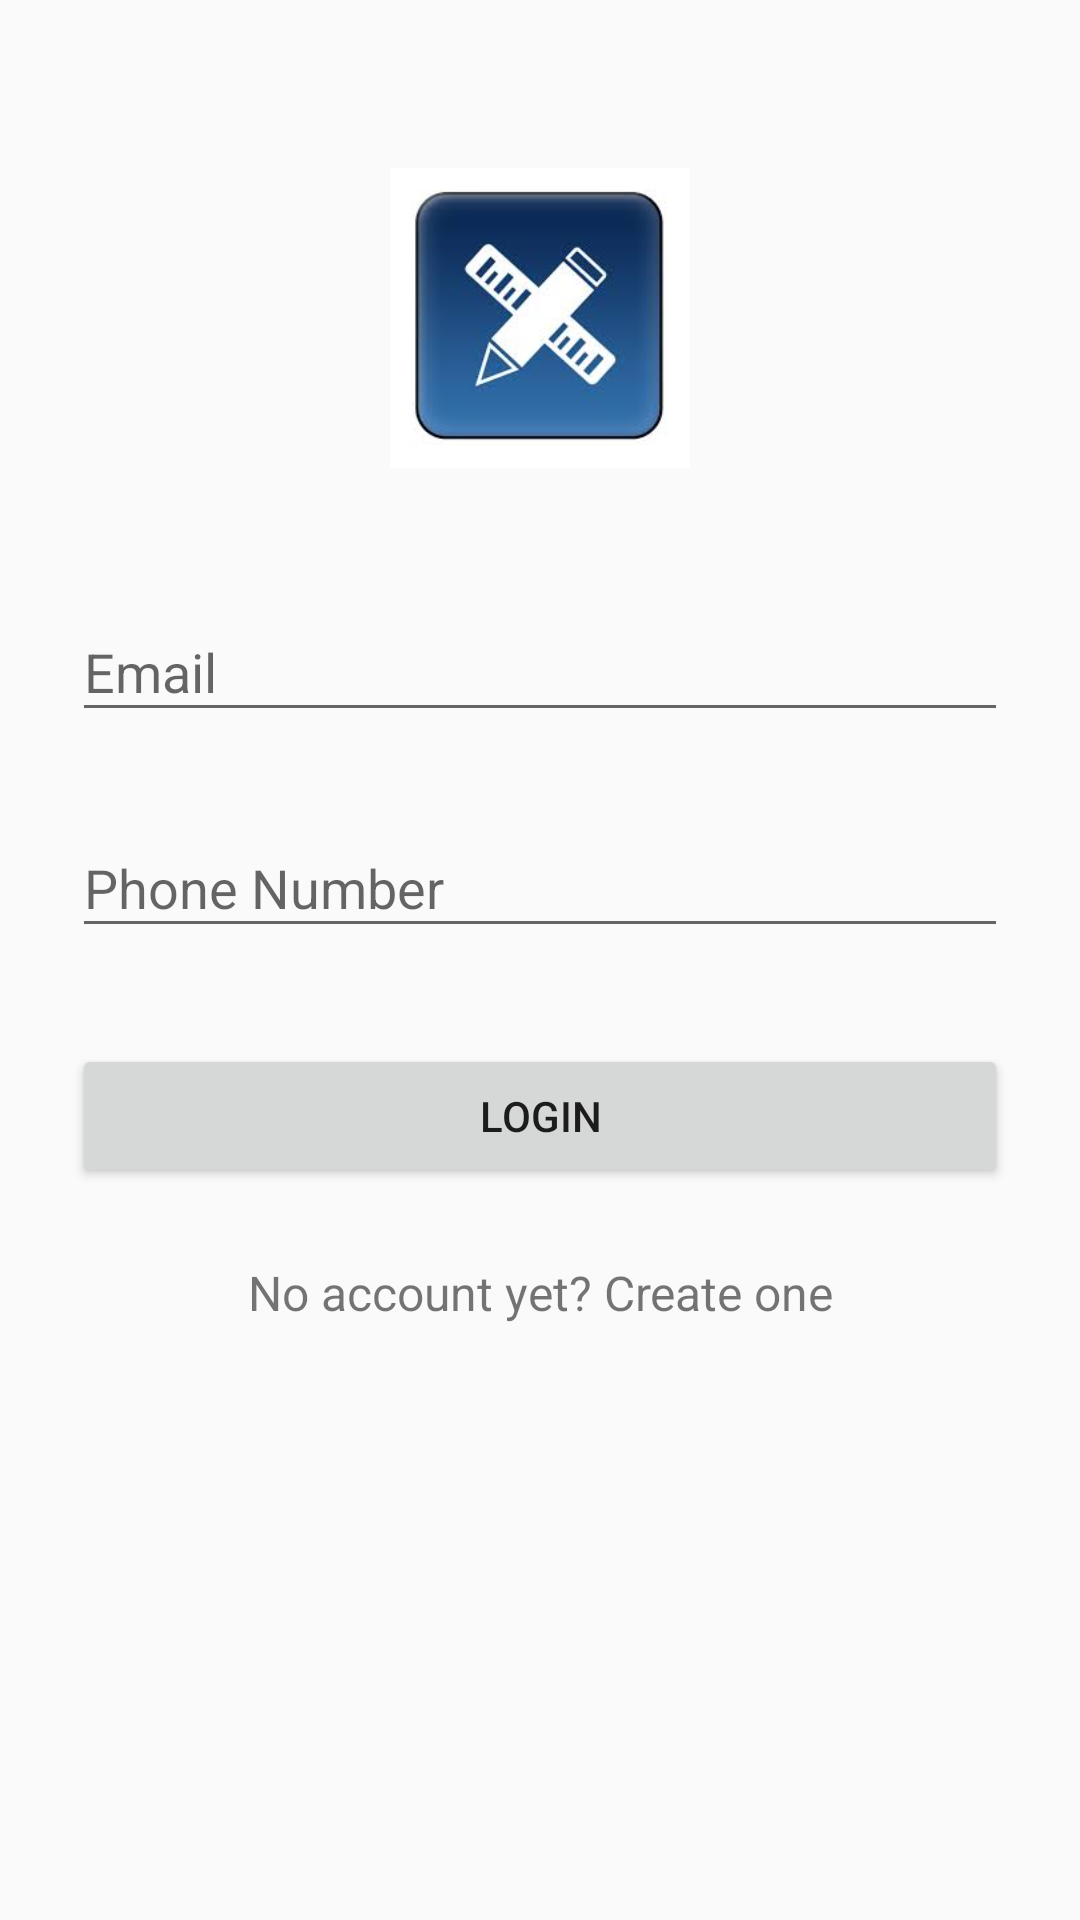

Icons on this 1080px×1920px Android screen, each with the point to tap as [x,y]:
app: [539,315]
